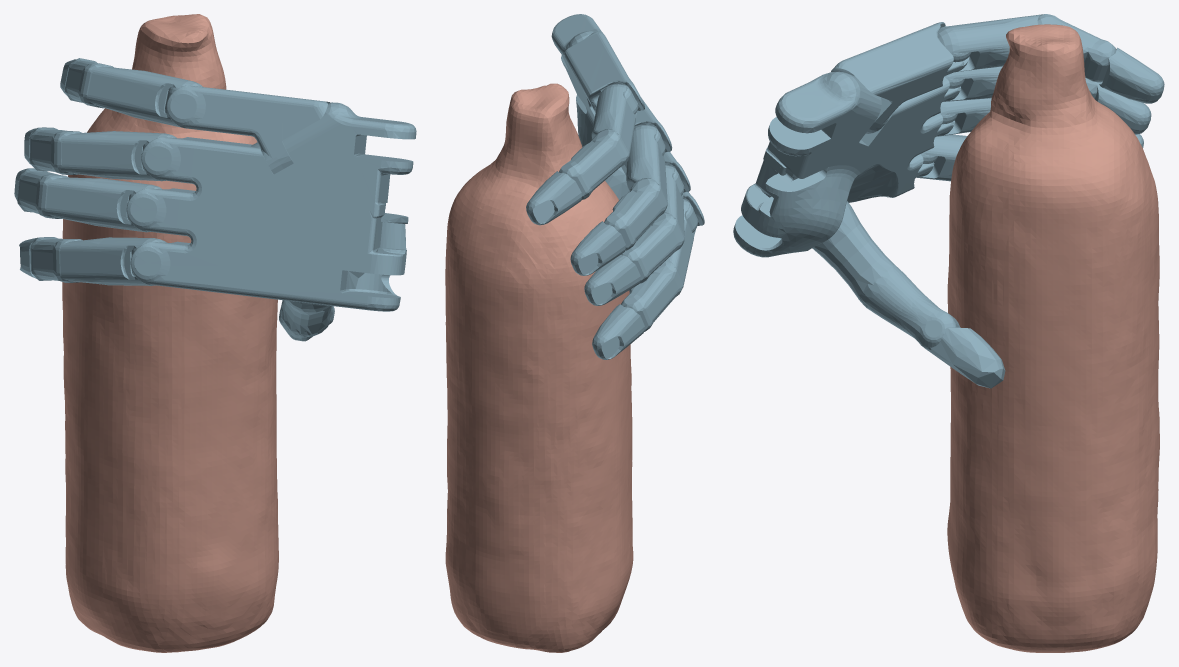
The model's file is 4_joint.glb.
The picture shows the model from 3 angles, left to right: view 1: azimuth 30°, elevation 25°; view 2: azimuth 150°, elevation 25°; view 3: azimuth 270°, elevation 25°; orthographic projection. The views are drawn at different scales.
Parts seen in each view (by area): view 1: world; view 2: world; view 3: world.
Part boxes in pixels (x1,y1,x2,y2): world: (14, 14, 416, 652); world: (445, 14, 704, 652); world: (733, 14, 1164, 652).
Size of the model in its own units: 0.8514 by 1.84 by 1.21.
